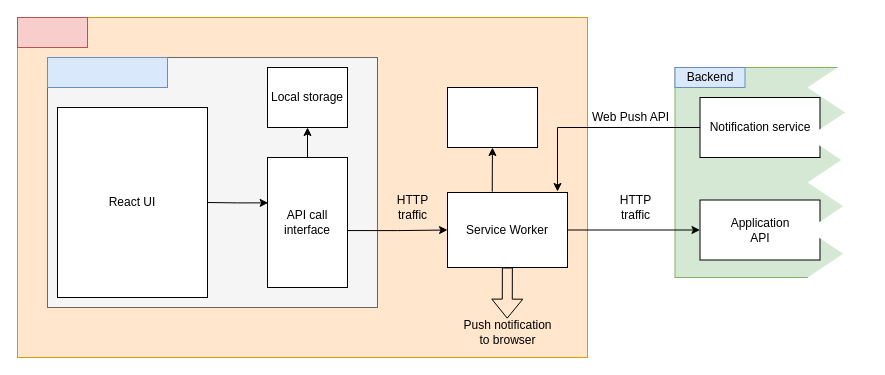
Image size: 885x375. Some labels were removed from this diagram. The shapes that lost their labels are listed below. From the top down, each one's centre as x and y in pixels, then its label:
At (x=52, y=32): "Browser".
At (x=107, y=72): "ReactJS".
At (x=492, y=117): "Cache".
